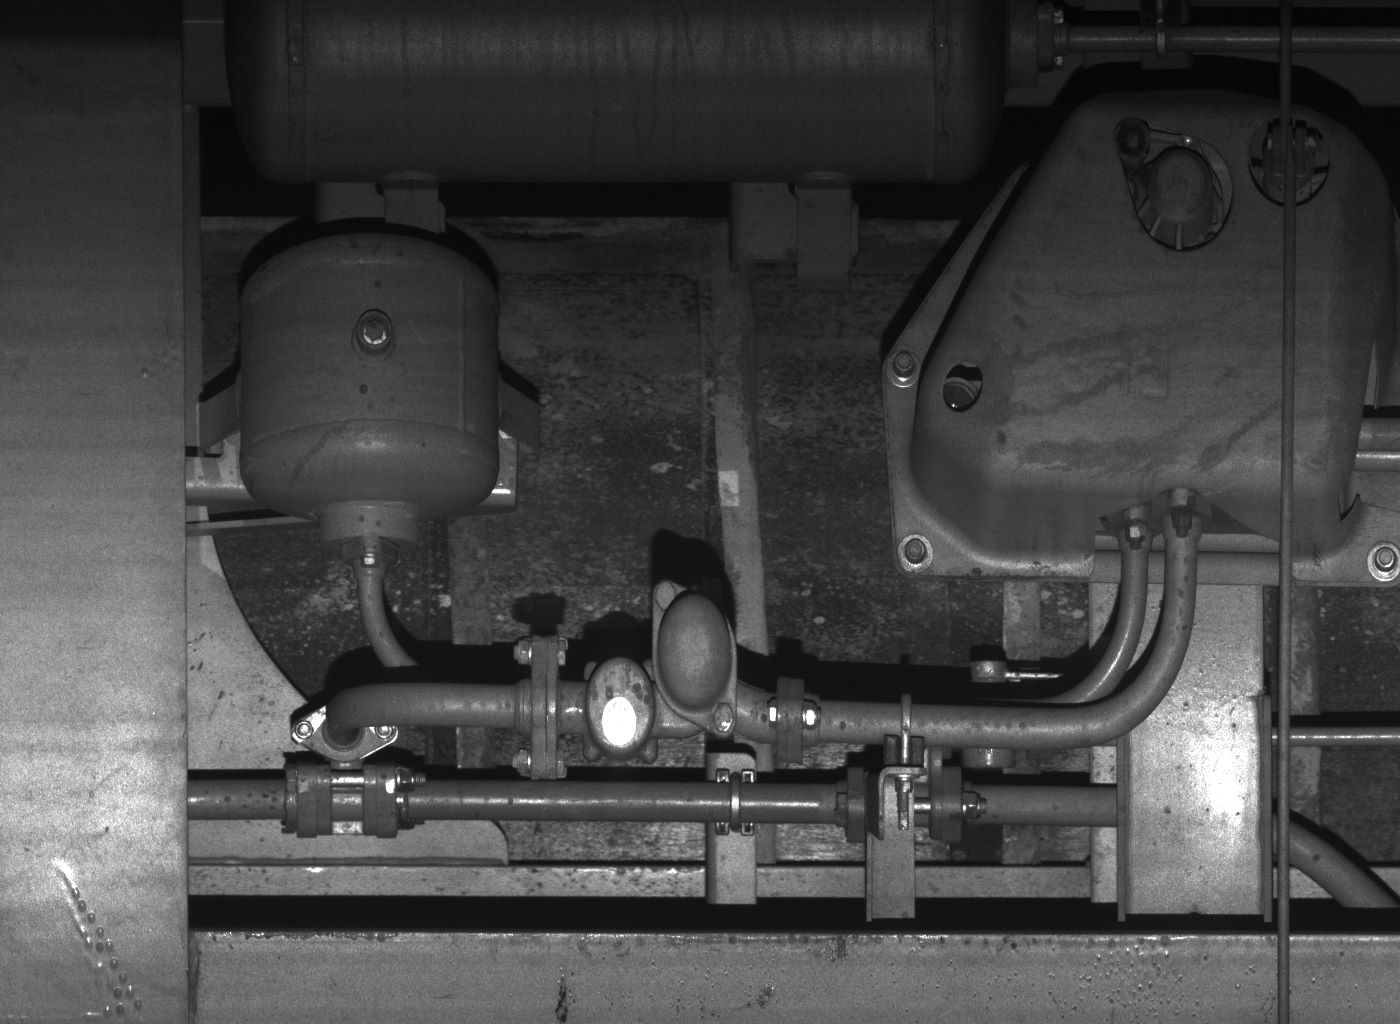normal: (582, 655, 657, 763)
